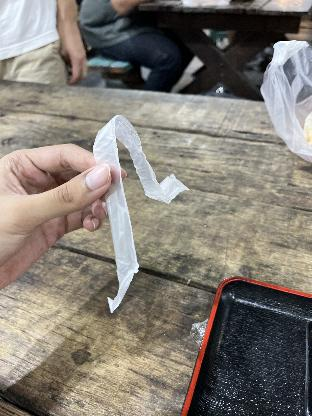Others: (90, 104, 190, 315), (256, 37, 312, 173)
